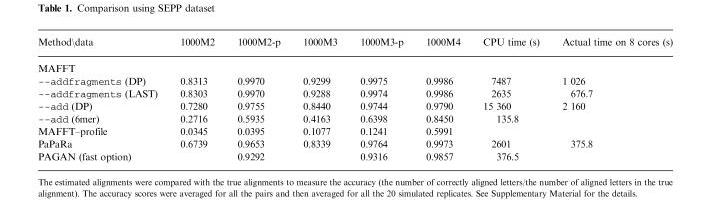table: (37, 36, 672, 161)
table column: (37, 36, 168, 161), (550, 36, 672, 161), (470, 36, 550, 161), (225, 36, 291, 161), (348, 36, 413, 161), (168, 36, 225, 161), (291, 36, 348, 161), (413, 36, 470, 161)
table column header: (37, 36, 672, 54)
table projected row header: (37, 54, 672, 74)
table row: (37, 54, 672, 74), (37, 36, 672, 54), (37, 74, 672, 87), (37, 99, 672, 112), (37, 112, 672, 125), (37, 137, 672, 150), (37, 87, 672, 99), (37, 125, 672, 137), (37, 150, 672, 161)
